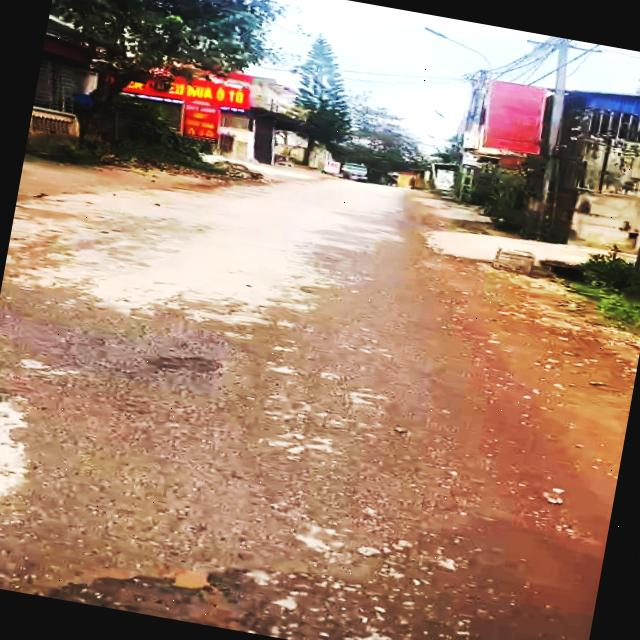pothole: (0, 514, 239, 629)
